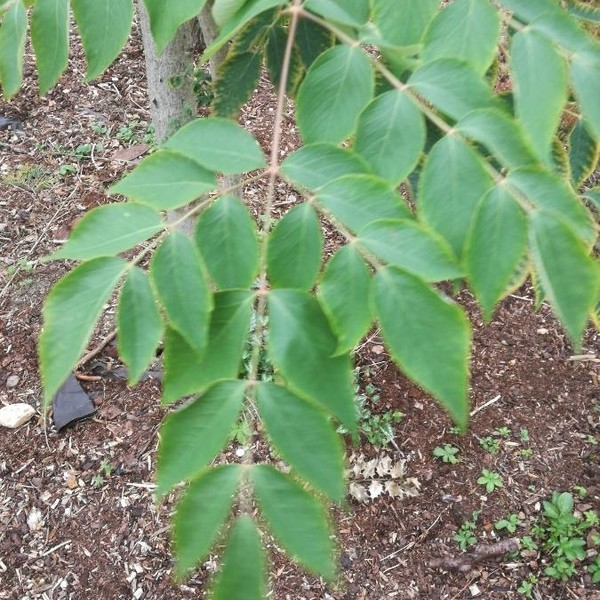obstacle: (45, 74, 523, 558)
